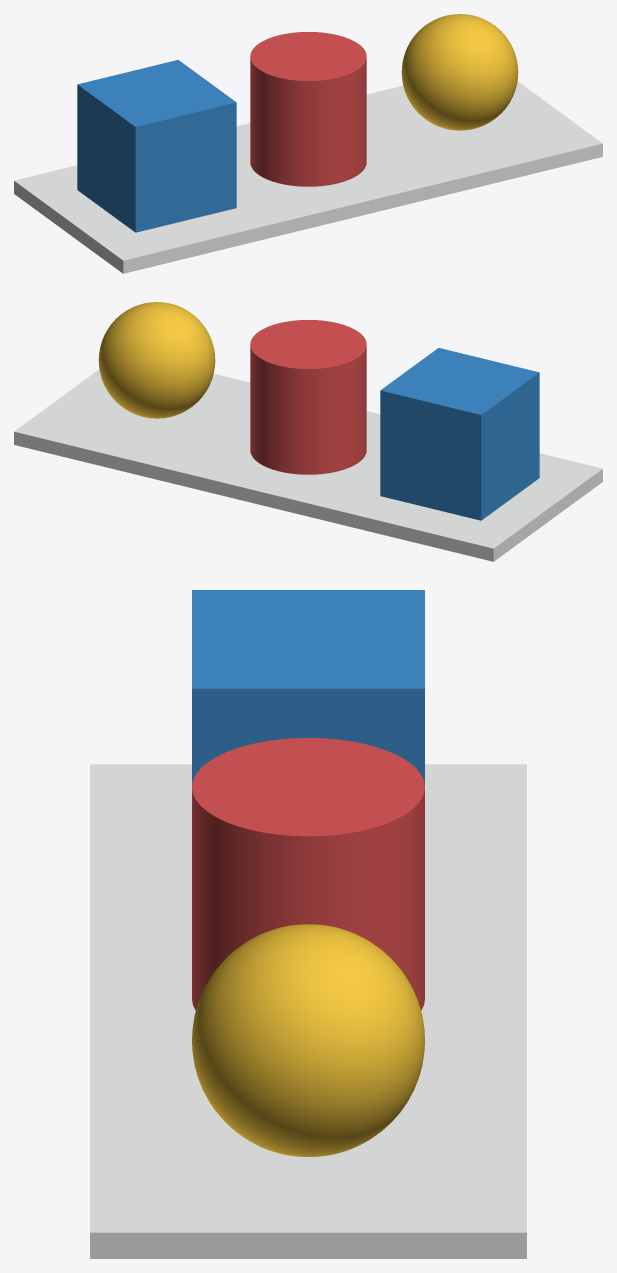
The model's file is math-solids__model3d__geometric-solids.glb.
3 renders of one model, top to bottom at view 1: azimuth 30°, elevation 25°; view 2: azimuth 150°, elevation 25°; view 3: azimuth 270°, elevation 25°, orthographic. The views are drawn at different scales.
Visible parts, largest first — view 1: Base, Cube edge 8 cm, Cylinder radius 4 height 8 cm, Sphere radius 4 cm; view 2: Base, Cube edge 8 cm, Cylinder radius 4 height 8 cm, Sphere radius 4 cm; view 3: Base, Cylinder radius 4 height 8 cm, Sphere radius 4 cm, Cube edge 8 cm.
Part boxes in pixels (x1,y1,x2,y2): Base: (14, 81, 602, 273); Cube edge 8 cm: (77, 60, 236, 232); Cylinder radius 4 height 8 cm: (250, 32, 366, 186); Sphere radius 4 cm: (401, 14, 518, 130); Base: (14, 369, 602, 561); Cube edge 8 cm: (380, 348, 539, 520); Cylinder radius 4 height 8 cm: (250, 320, 366, 474); Sphere radius 4 cm: (98, 302, 215, 418); Base: (90, 764, 526, 1258); Cylinder radius 4 height 8 cm: (192, 738, 424, 1010); Sphere radius 4 cm: (192, 924, 424, 1156); Cube edge 8 cm: (192, 590, 424, 784).
Size of the model in its own units: 0.38 by 0.09 by 0.15.
